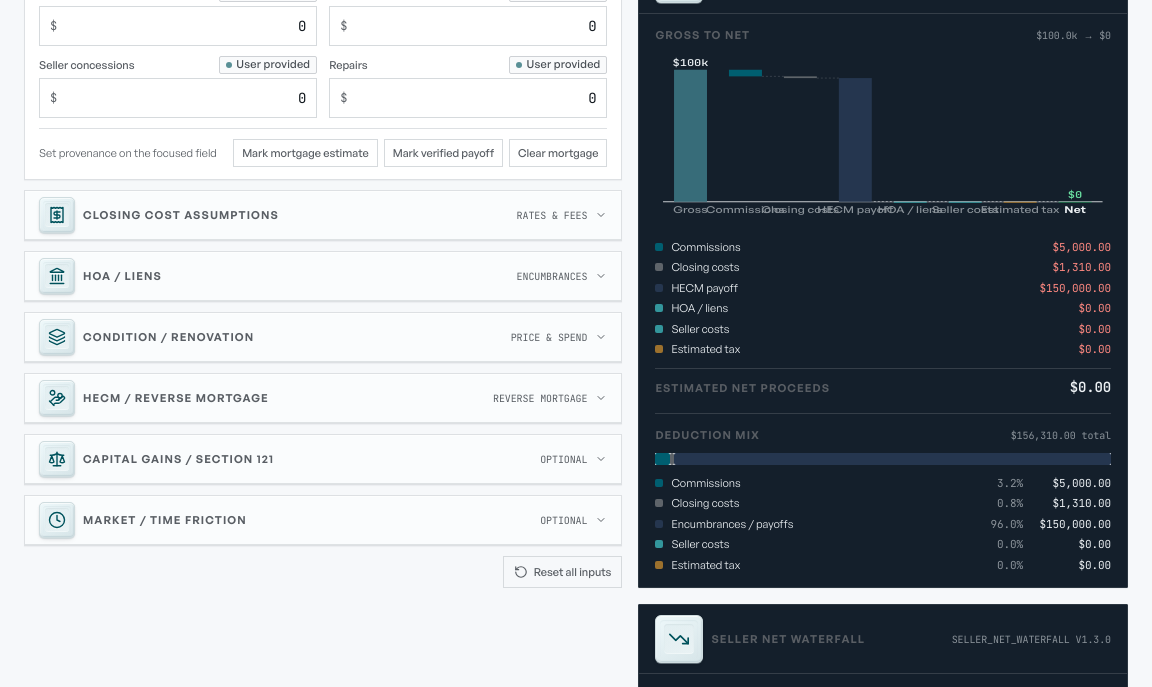
Test case: HECM work surface › hides the standard mortgage payoff controls while HECM is active
(page scrolled)
Expand the Condition / Renovation section that holds the mortgage controls.
Click the button with test id "inputs.condition_renovation.toggle": coordinates (57, 337) [25,313,621,362]
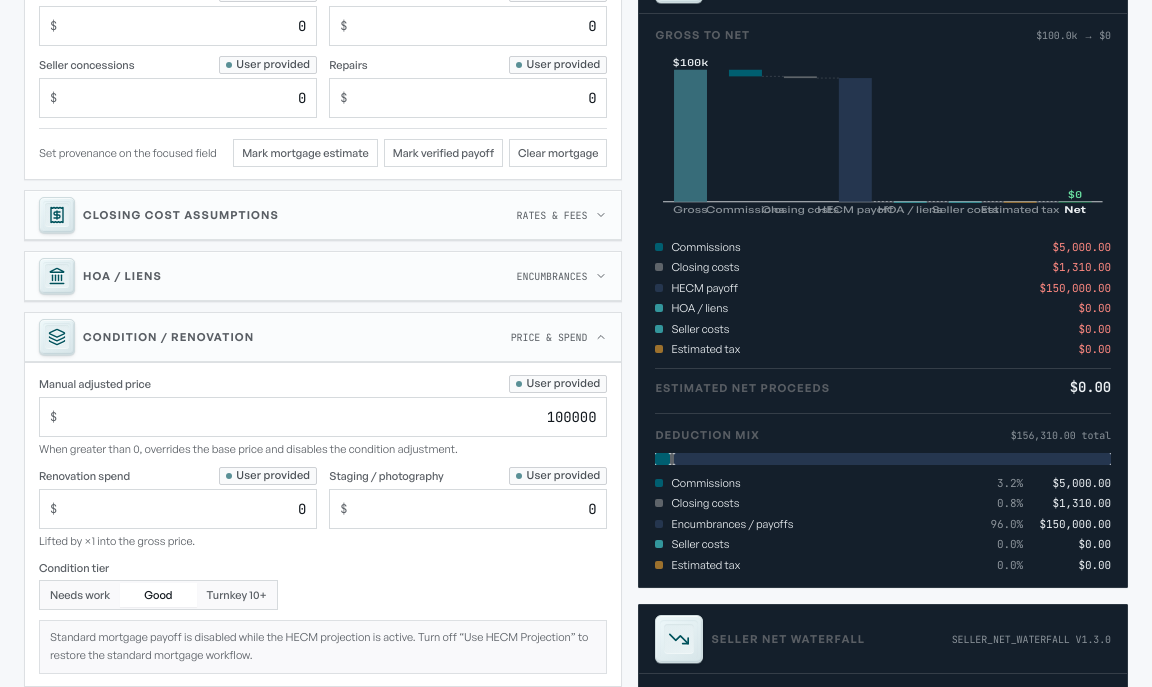
Expected: the text with test id "inputs.mortgage_disabled_notice" is shown, [39,620,607,674]
